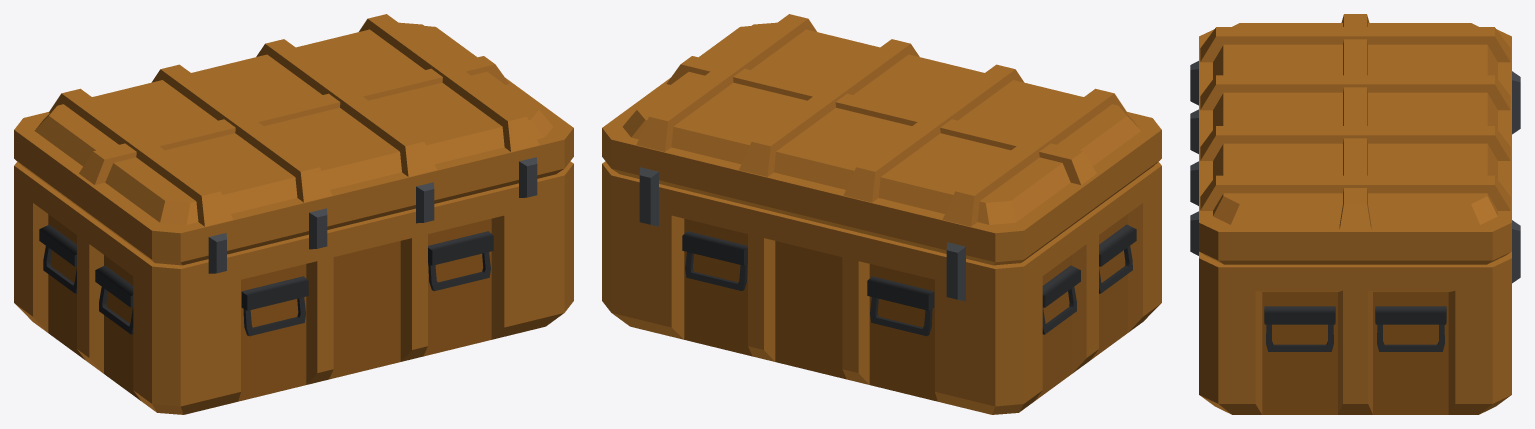
The model's file is Prop_Chest_02.glb.
3 renders of one model, left to right at view 1: azimuth 30°, elevation 25°; view 2: azimuth 150°, elevation 25°; view 3: azimuth 270°, elevation 25°, orthographic.
Parts seen in each view (by area): view 1: SM_Gen_Prop_Chest_02; view 2: SM_Gen_Prop_Chest_02; view 3: SM_Gen_Prop_Chest_02.
Part boxes in pixels (x1,y1,x2,y2): SM_Gen_Prop_Chest_02: (14,14,573,414); SM_Gen_Prop_Chest_02: (602,14,1161,414); SM_Gen_Prop_Chest_02: (1190,14,1520,414).
Bounding box in the file's own units: 1.2 × 0.582 × 0.8193.
2 materials, 2 textured.
